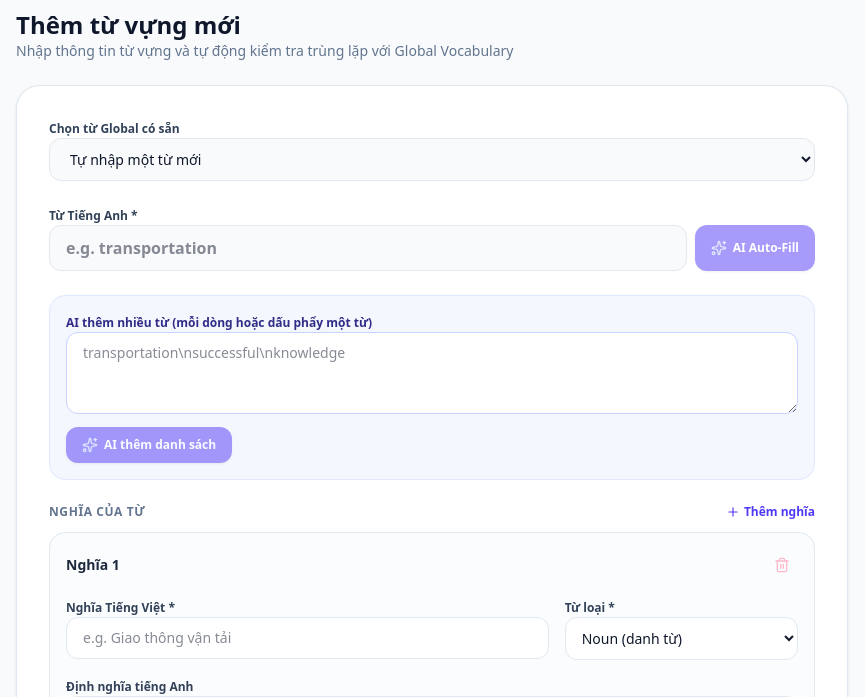
Test: AddWordModal OpenAI-compatible Auto-Fill › uses the authenticated same-origin proxy and fills the form
This screenshot has width=865, height=697.
In the field with placeholder "e.g. transportation": (368, 248) 49,225 -> 687,271, type "transportation"
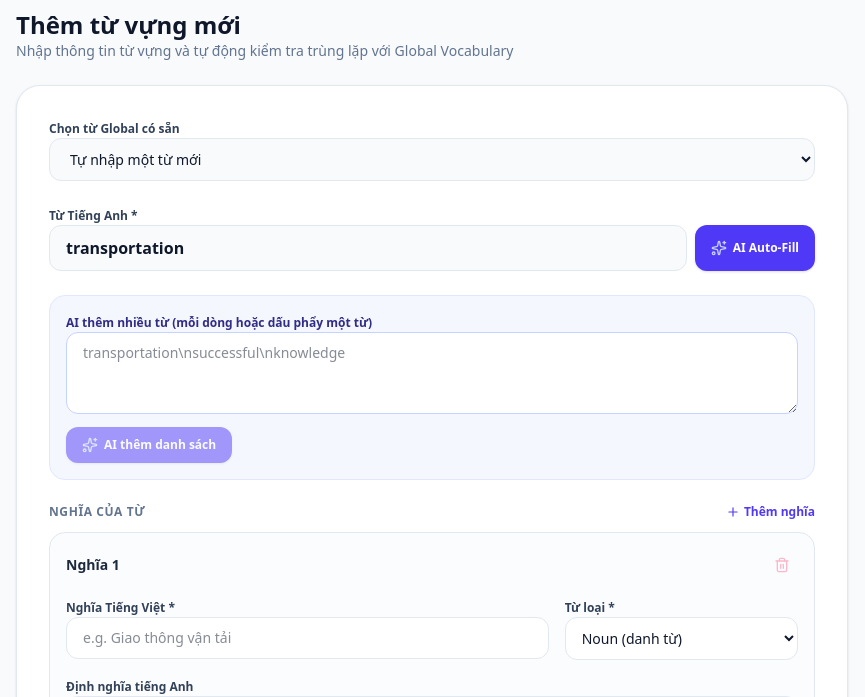
Click the button "AI Auto-Fill": (755, 248) 695,225 -> 815,271
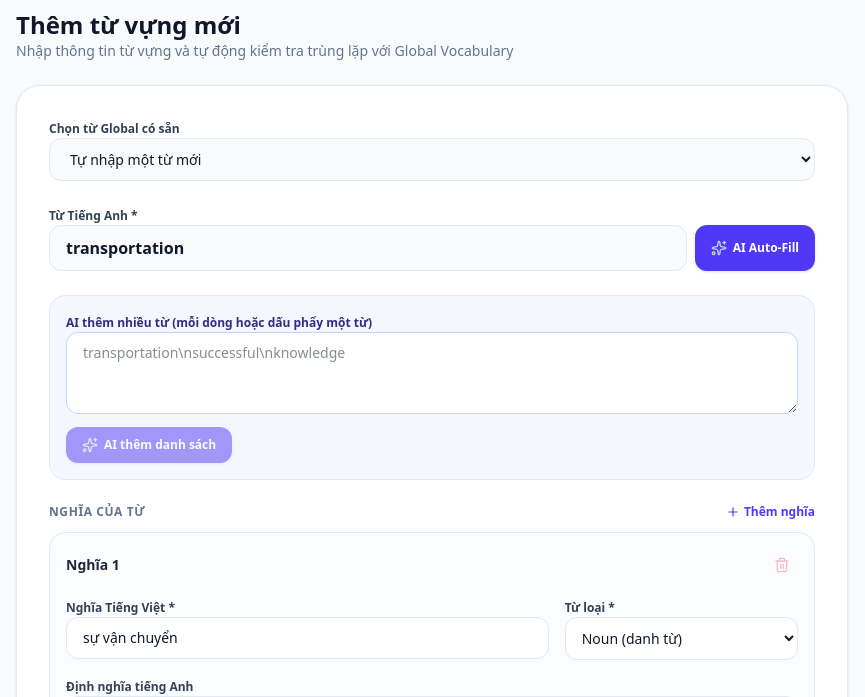
expect the field with placeholder "e.g. Giao thông vận tải" holds "sự vận chuyển": met, box 66,617 -> 549,659
